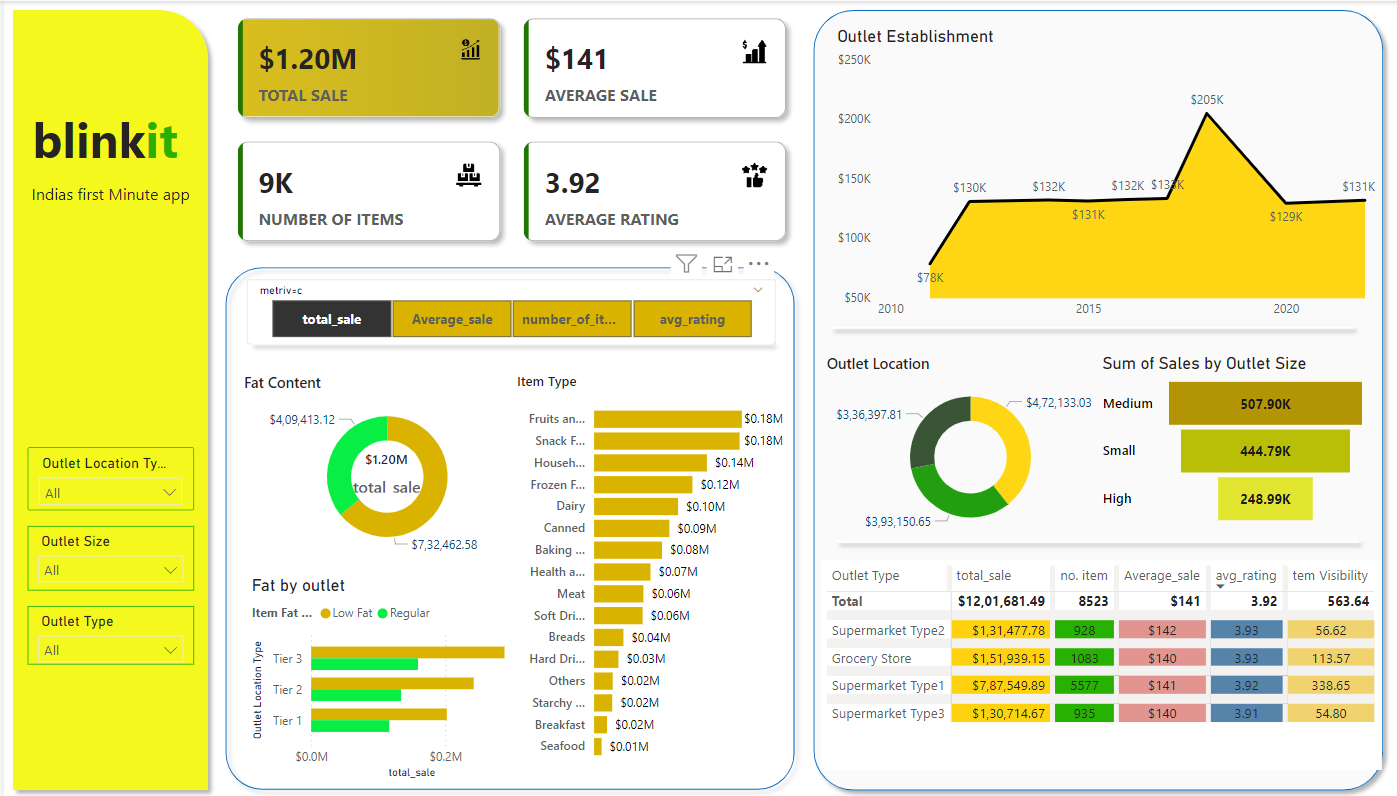

Layout of this report page (visuals, bound fields, positions):
{"tool":"powerbi","page":{"name":"Page 1","canvas":[1400,800],"ordinal":0},"visuals":[{"type":"textbox","box":[213.3,160,295,16.7],"z":1000},{"type":"cardVisual","fields":{"Data":["BlinkIT Grocery Data.total_sale","BlinkIT Grocery Data.Average_sale","BlinkIT Grocery Data.number_of_item","BlinkIT Grocery Data.avg_rating"]},"box":[216.7,0,585,258.3],"z":2000},{"type":"shape","box":[213.3,258.3,588.3,541.7],"z":3000},{"type":"slicer","fields":{"Values":["metriv=c.metriv=c"]},"box":[243.3,278.3,530,65],"z":4000},{"type":"donutChart","title":" Fat Content","fields":{"Y":["BlinkIT Grocery Data.total_sale"],"Category":["BlinkIT Grocery Data.Item Fat Content"]},"box":[235,371.7,296.7,188.3],"z":5000},{"type":"cardVisual","fields":{"Data":["BlinkIT Grocery Data.total_sale"]},"box":[331.9,432.7,104.1,65.1],"z":6000},{"type":"clusteredBarChart","title":"Fat by outlet","fields":{"Y":["BlinkIT Grocery Data.total_sale"],"Category":["BlinkIT Grocery Data.Outlet Location Type"],"Series":["BlinkIT Grocery Data.Item Fat Content"]},"box":[244,574.3,288,209.9],"z":7000},{"type":"barChart","title":"Item Type","fields":{"Y":["BlinkIT Grocery Data.total_sale"],"Category":["BlinkIT Grocery Data.Item Type"]},"box":[509.2,370.9,276.6,398.6],"z":8000},{"type":"shape","box":[802,0,588.9,800.4],"z":9000},{"type":"areaChart","title":"Outlet Establishment ","fields":{"Y":["BlinkIT Grocery Data.total_sale"],"Category":["BlinkIT Grocery Data.Outlet Establishment Year"]},"box":[830,25,551.7,301.7],"z":10000},{"type":"donutChart","title":"Outlet Location","fields":{"Y":["BlinkIT Grocery Data.total_sale"],"Category":["BlinkIT Grocery Data.Outlet Location Type"]},"box":[819.9,353,297.7,188.7],"z":11000},{"type":"funnel","fields":{"Y":["Sum(BlinkIT Grocery Data.Sales)"],"Category":["BlinkIT Grocery Data.Outlet Size"]},"box":[1096.5,353,274.9,177.3],"z":12000},{"type":"pivotTable","fields":{"Values":["BlinkIT Grocery Data.total_sale","BlinkIT Grocery Data.number_of_item","BlinkIT Grocery Data.Average_sale","BlinkIT Grocery Data.avg_rating","Sum(BlinkIT Grocery Data.Item Visibility)"],"Rows":["BlinkIT Grocery Data.Outlet Type"]},"box":[820,560,561.7,210],"z":13000},{"type":"slicer","fields":{"Values":["BlinkIT Grocery Data.Outlet Location Type"]},"box":[25,413.3,165,58.3],"z":14000},{"type":"slicer","fields":{"Values":["BlinkIT Grocery Data.Outlet Size"]},"box":[23.3,341.7,165,58.3],"z":15000},{"type":"shape","box":[0,0,213.3,800],"z":17000},{"type":"textbox","box":[23.3,100,165,76.7],"z":17001},{"type":"slicer","fields":{"Values":["BlinkIT Grocery Data.Outlet Location Type"]},"box":[23.3,446.7,166.7,63.3],"z":17002},{"type":"slicer","fields":{"Values":["BlinkIT Grocery Data.Outlet Size"]},"box":[23.3,526.7,166.7,65],"z":17003},{"type":"slicer","fields":{"Values":["BlinkIT Grocery Data.Outlet Type"]},"box":[23.3,606.7,166.7,58.3],"z":17004},{"type":"textbox","box":[11.7,176.7,190,55],"z":17005},{"type":"shape","box":[238.3,313.3,541.7,60],"z":17006},{"type":"shape","box":[820,296.7,541.7,60],"z":17007},{"type":"shape","box":[825,511.7,541.7,60],"z":17008}]}

Visuals, with their boxes in screenshot pixels (x1, y1, x2, y2), scaled from the page's 1400x800 canvas onto the 1397x796 screenshot:
textbox: <region>213, 159, 507, 176</region>
cardVisual - BlinkIT Grocery Data.total_sale x BlinkIT Grocery Data.Average_sale: <region>216, 0, 800, 257</region>
shape: <region>213, 257, 800, 795</region>
slicer - metriv=c.metriv=c: <region>243, 277, 772, 342</region>
" Fat Content" donutChart: <region>234, 370, 531, 557</region>
cardVisual - BlinkIT Grocery Data.total_sale: <region>331, 431, 435, 495</region>
"Fat by outlet" clusteredBarChart: <region>243, 571, 531, 780</region>
"Item Type" barChart: <region>508, 369, 784, 766</region>
shape: <region>800, 0, 1388, 795</region>
"Outlet Establishment " areaChart: <region>828, 25, 1379, 325</region>
"Outlet Location" donutChart: <region>818, 351, 1115, 539</region>
funnel - Sum(BlinkIT Grocery Data.Sales) x BlinkIT Grocery Data.Outlet Size: <region>1094, 351, 1368, 528</region>
pivotTable - BlinkIT Grocery Data.total_sale x BlinkIT Grocery Data.number_of_item: <region>818, 557, 1379, 766</region>
slicer - BlinkIT Grocery Data.Outlet Location Type: <region>25, 411, 190, 469</region>
slicer - BlinkIT Grocery Data.Outlet Size: <region>23, 340, 188, 398</region>
shape: <region>0, 0, 213, 795</region>
textbox: <region>23, 100, 188, 176</region>
slicer - BlinkIT Grocery Data.Outlet Location Type: <region>23, 444, 190, 507</region>
slicer - BlinkIT Grocery Data.Outlet Size: <region>23, 524, 190, 589</region>
slicer - BlinkIT Grocery Data.Outlet Type: <region>23, 604, 190, 662</region>
textbox: <region>12, 176, 201, 231</region>
shape: <region>238, 312, 778, 371</region>
shape: <region>818, 295, 1359, 355</region>
shape: <region>823, 509, 1364, 569</region>
